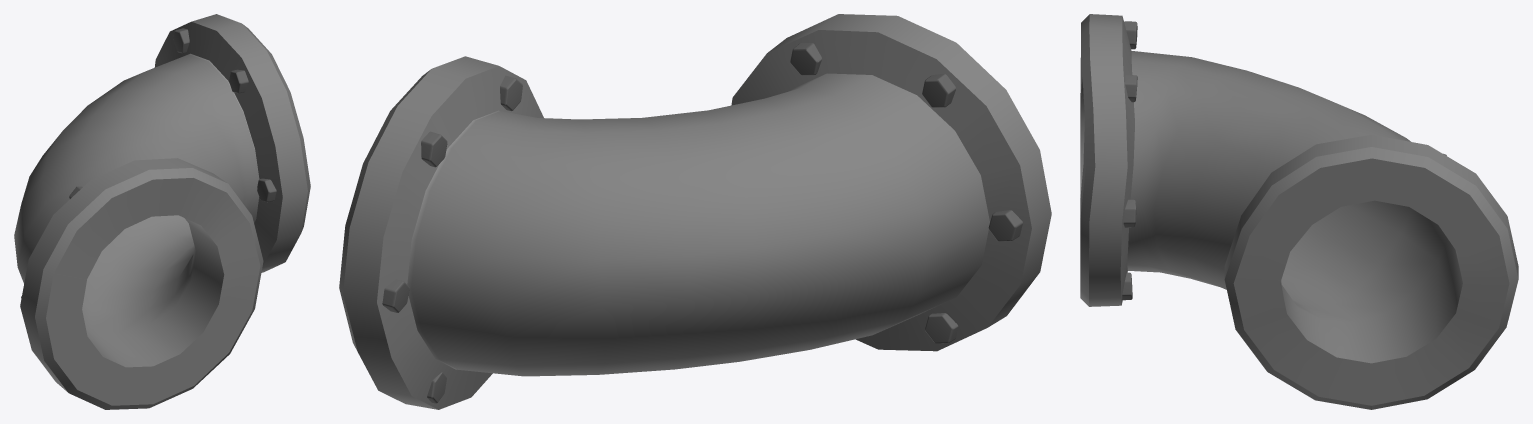
The model's file is SM_tuyau_tournant_02_low.fbx.
The picture shows the model from 3 angles, left to right: view 1: azimuth 30°, elevation 25°; view 2: azimuth 150°, elevation 25°; view 3: azimuth 270°, elevation 25°; orthographic projection. The views are drawn at different scales.
Visible parts, largest first — view 1: SM_tuyau_tournant_02_low; view 2: SM_tuyau_tournant_02_low; view 3: SM_tuyau_tournant_02_low.
Part boxes in pixels (x1,y1,x2,y2): SM_tuyau_tournant_02_low: (14, 14, 310, 409); SM_tuyau_tournant_02_low: (339, 14, 1051, 409); SM_tuyau_tournant_02_low: (1080, 14, 1518, 409).
Bounding box in the file's own units: 39.41 × 26.36 × 39.41.
Materials: 1 (1 with a texture image).
